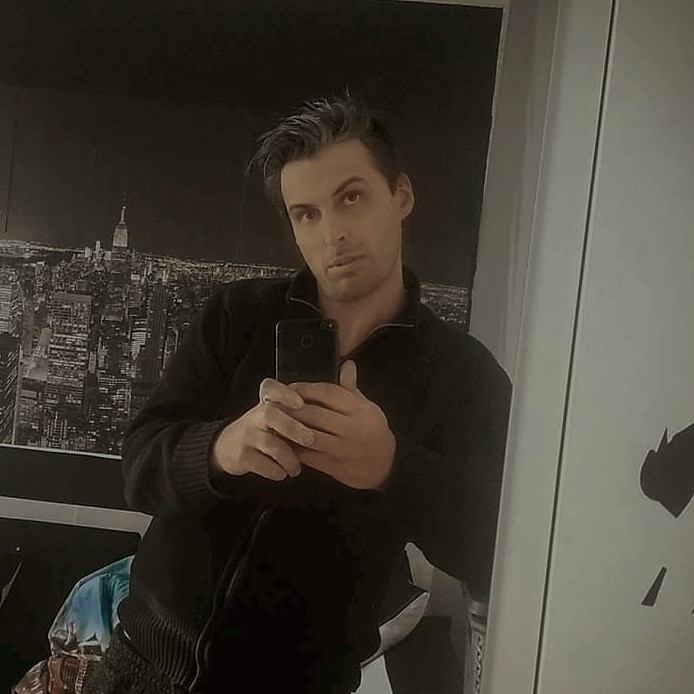shirts: (142, 266, 521, 693)
